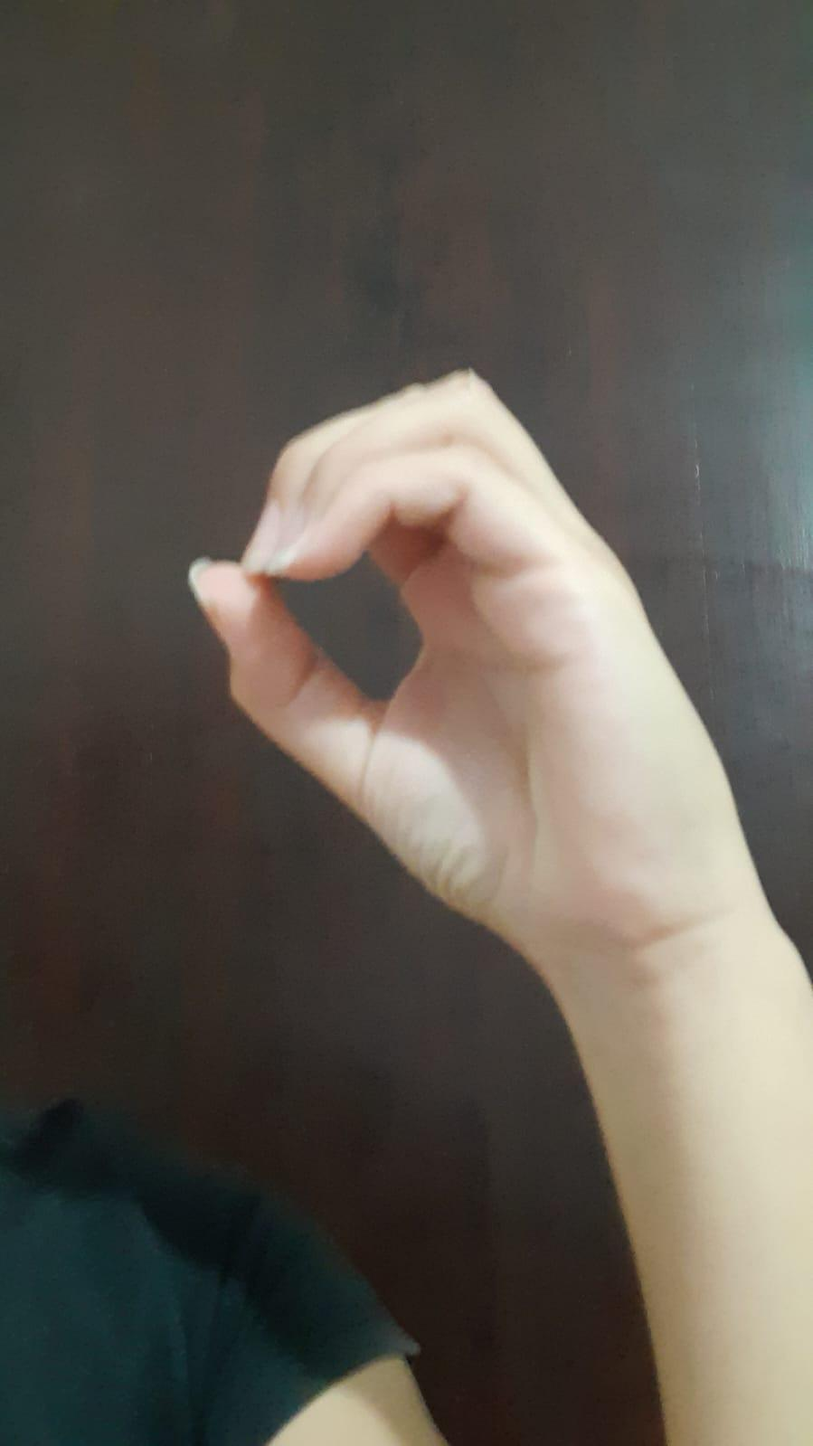O: (154, 362, 751, 945)
